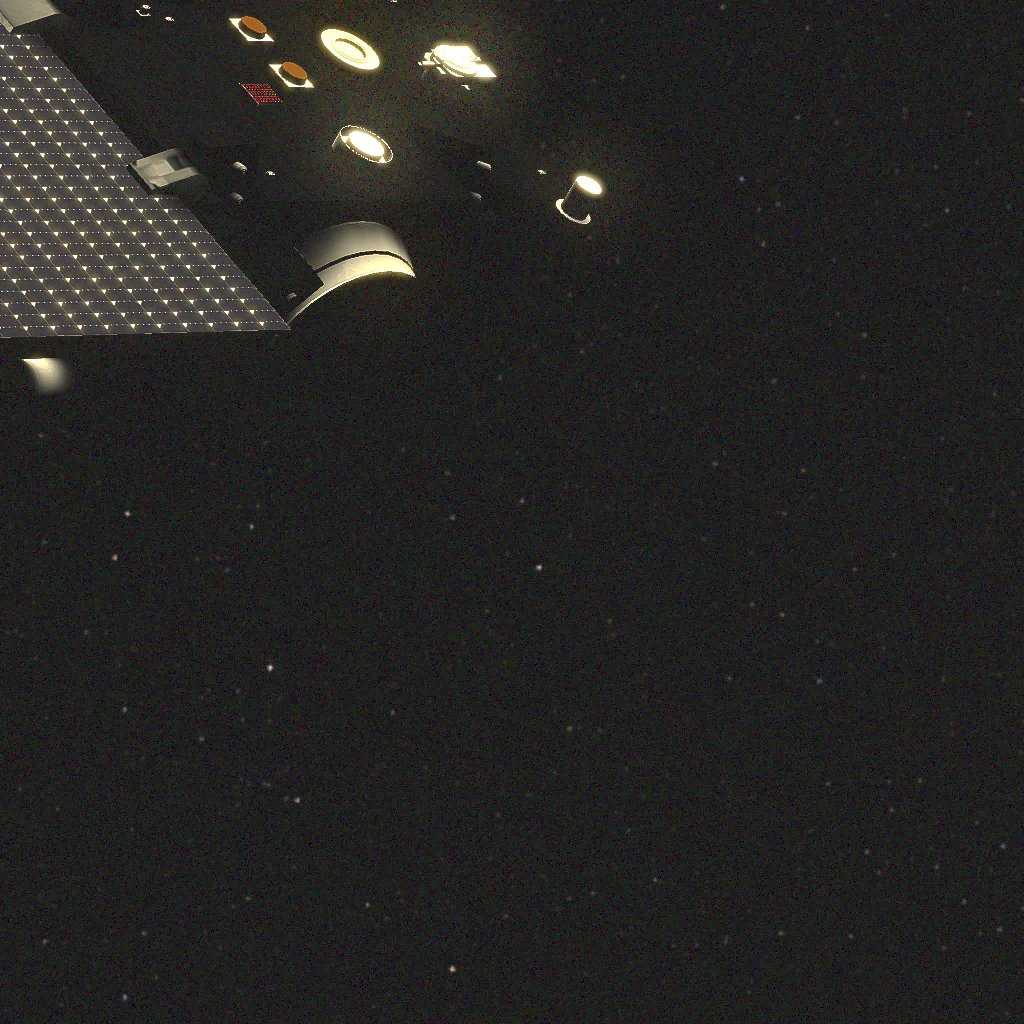proba_3_csc: (0, 0, 601, 468)
